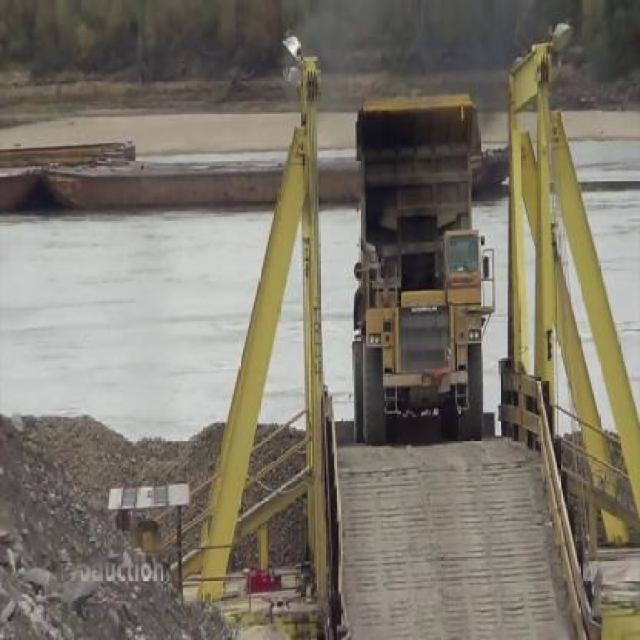dump_truck: (348, 84, 498, 438)
